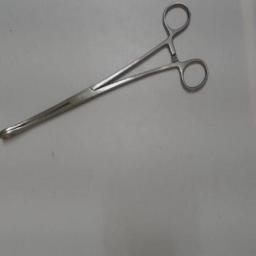Sponge Forceps: (0, 0, 214, 148)
